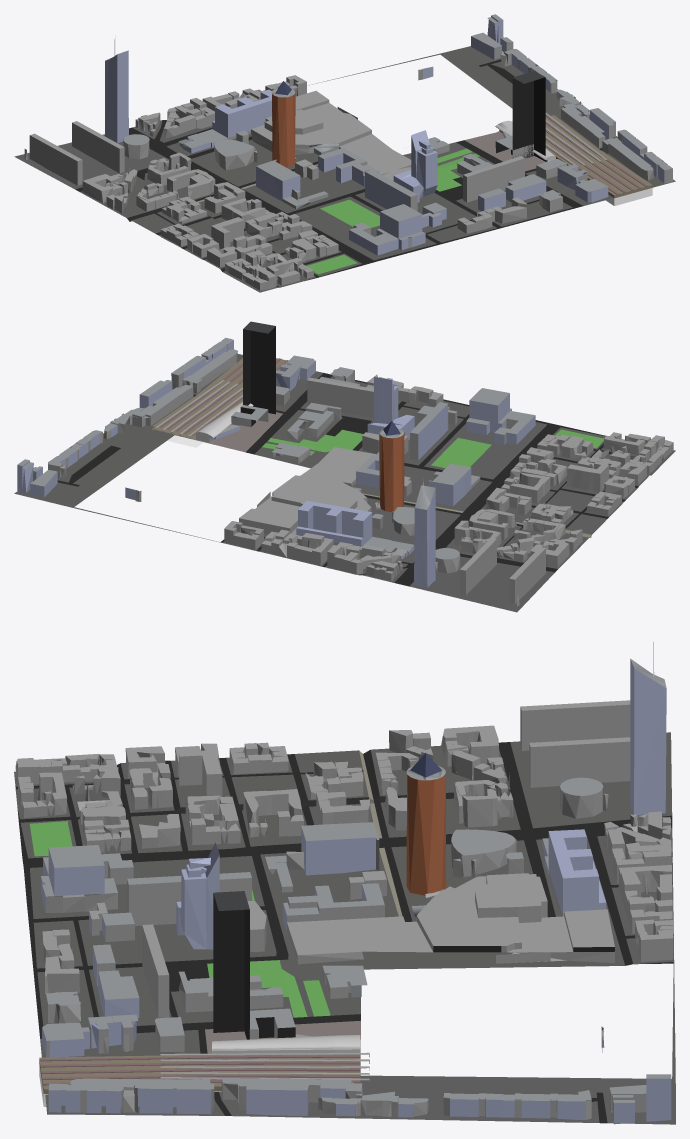
File: global.glb
The picture shows the model from 3 angles, top to bottom: view 1: azimuth 30°, elevation 25°; view 2: azimuth 150°, elevation 25°; view 3: azimuth 270°, elevation 25°; orthographic projection. The views are drawn at different scales.
Parts seen in each view (by area): view 1: global; view 2: global; view 3: global.
Boxes of the visible parts, <box> form: global: <box>14,14,675,292</box>; global: <box>14,321,675,612</box>; global: <box>14,641,675,1124</box>.
Bounding box in the file's own units: 1025 × 224 × 738.
